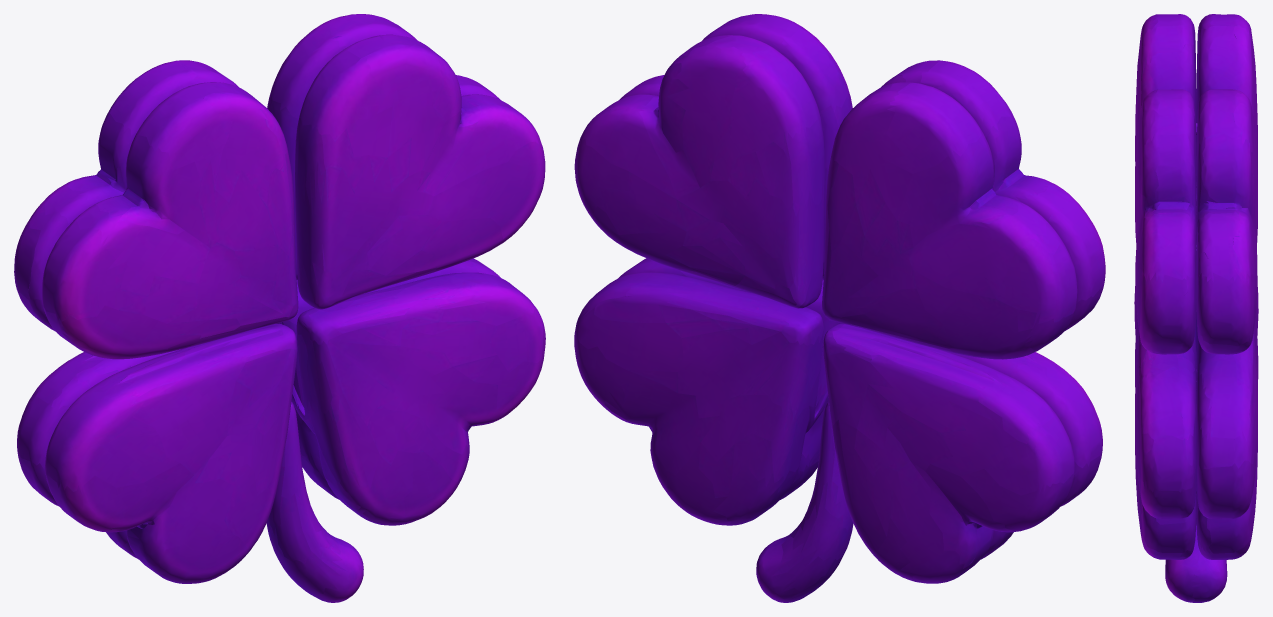
The model's file is sym-clover.glb.
3 renders of one model, left to right at view 1: azimuth 30°, elevation 25°; view 2: azimuth 150°, elevation 25°; view 3: azimuth 270°, elevation 25°, orthographic. The views are drawn at different scales.
Parts seen in each view (by area): view 1: Mesh_0; view 2: Mesh_0; view 3: Mesh_0.
Part boxes in pixels (x1=…): Mesh_0: x1=14, y1=14, x2=545, y2=602; Mesh_0: x1=574, y1=14, x2=1105, y2=602; Mesh_0: x1=1134, y1=14, x2=1258, y2=602.
Size of the model in its own units: 1.74 by 1.9 by 0.4109.
Materials: 1 (1 with a texture image).
